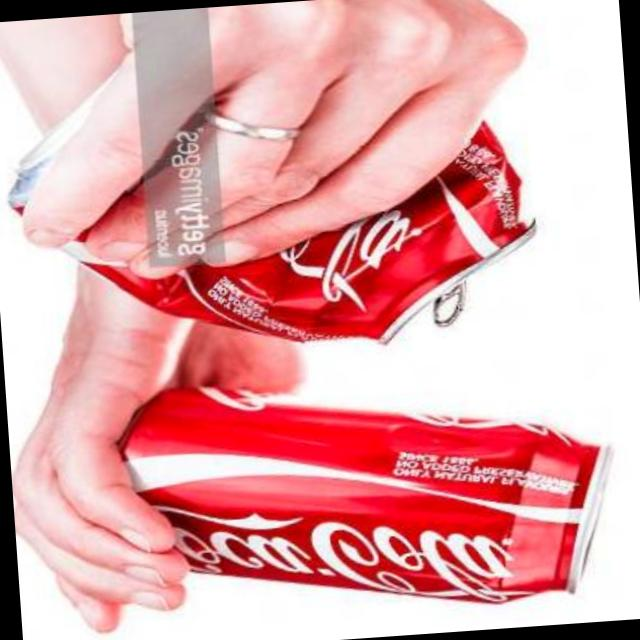metal: (126, 391, 613, 604)
